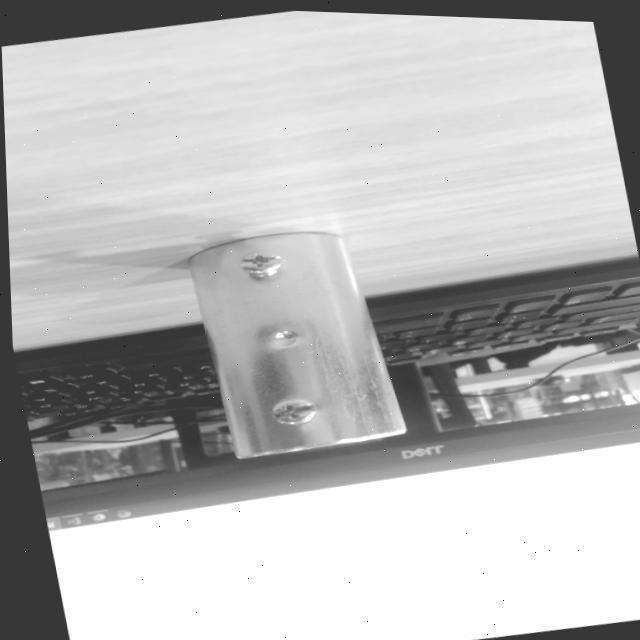Co_Lon: (185, 212, 407, 474)
